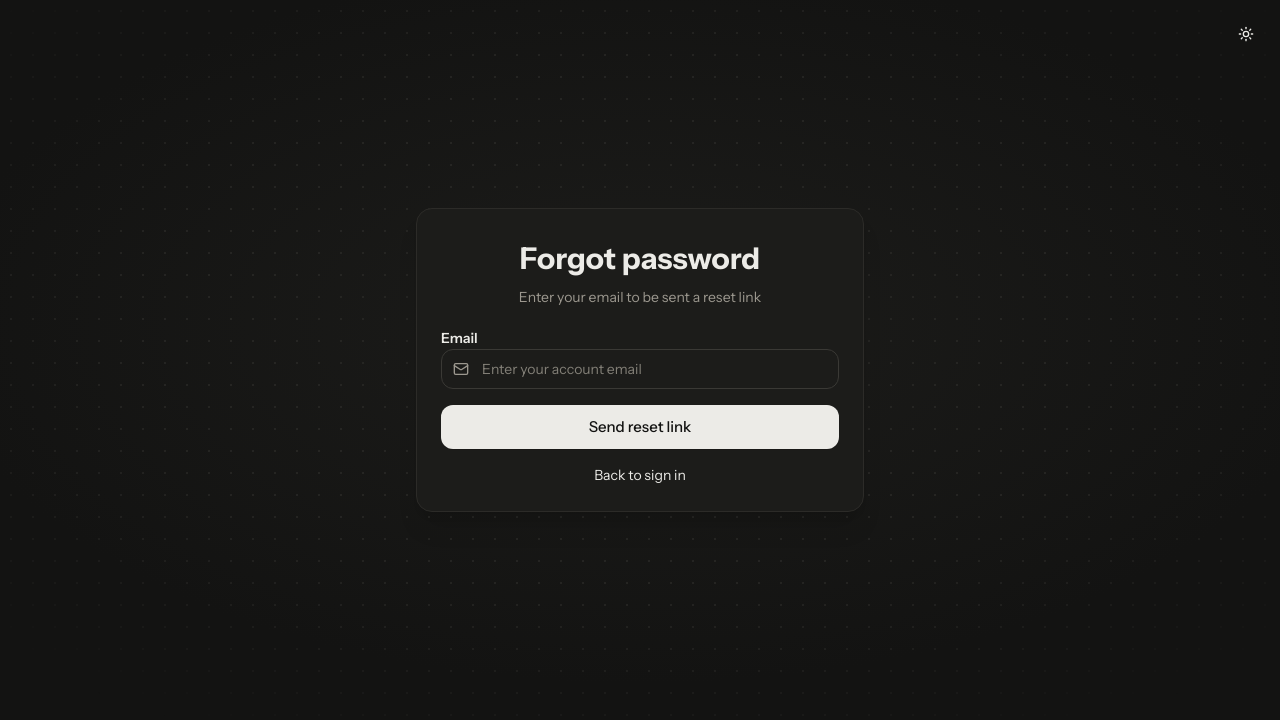
it: ForgotPasswordPage › says the same thing whether or not the address is registered
Type "stranger@example.com" into the field labelled "Email".
click(640, 369); type("stranger@example.com")  # box x1=441 y1=349 x2=839 y2=389
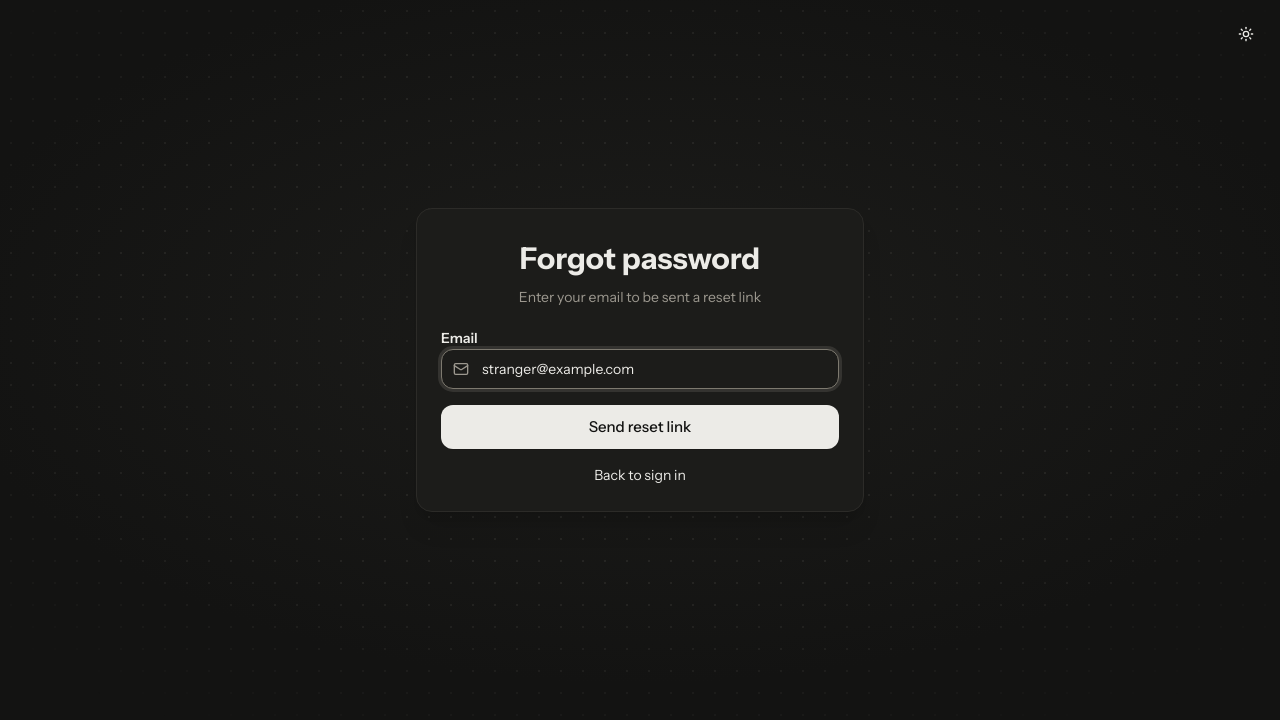
Click the button "Send reset link".
click(640, 427)  # box x1=441 y1=405 x2=839 y2=449
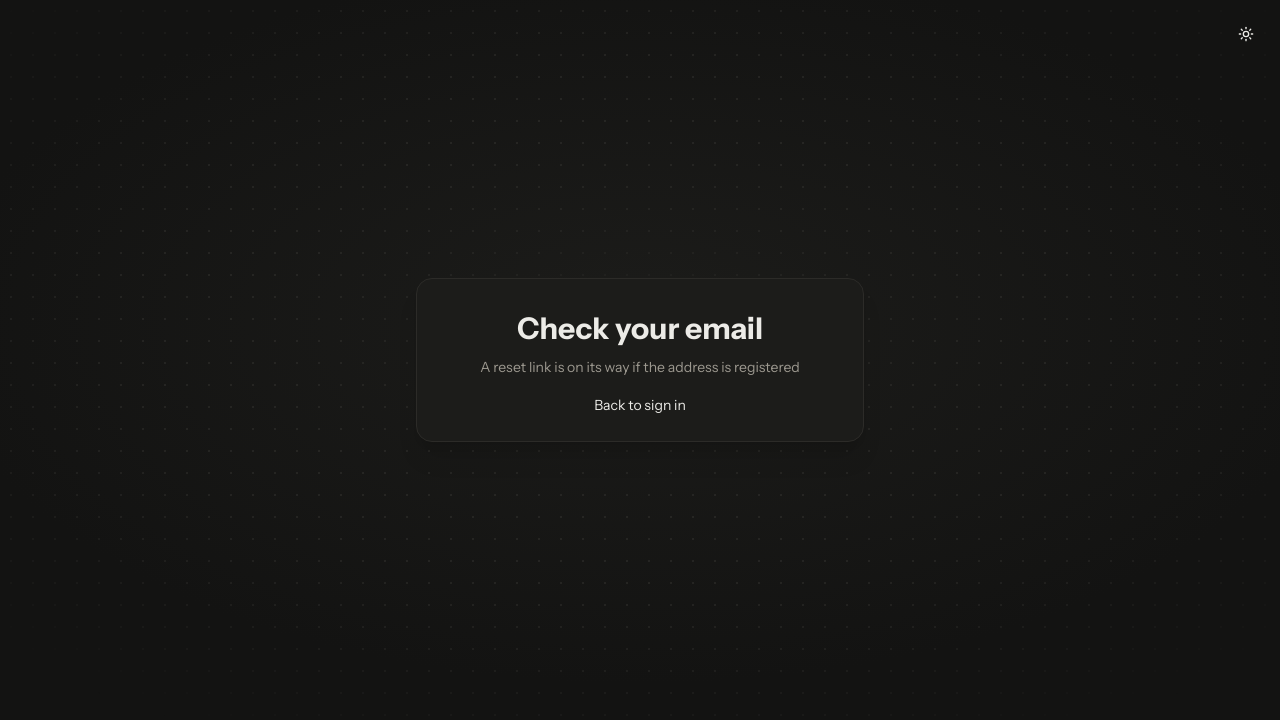
expect the text "Check your email" is shown: met, box x1=517 y1=310 x2=763 y2=347
expect the text "A reset link is on its way if the address is registered" is shown: met, box x1=480 y1=358 x2=800 y2=376
